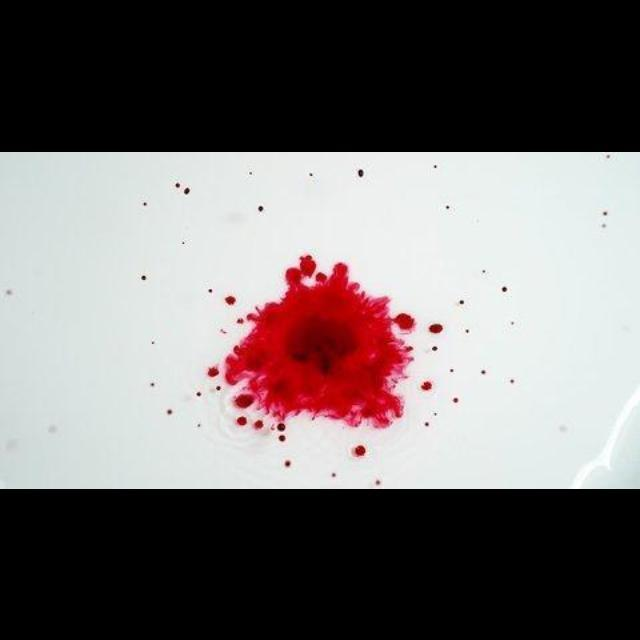blood: (225, 254, 416, 430), (171, 180, 191, 200), (352, 444, 364, 458), (136, 195, 148, 208), (429, 323, 442, 332), (503, 283, 512, 296), (253, 419, 264, 429), (207, 367, 219, 376), (421, 380, 431, 390), (191, 387, 202, 396), (428, 344, 440, 352), (236, 416, 245, 426), (225, 295, 235, 304), (139, 271, 148, 280), (359, 167, 365, 176), (284, 459, 289, 468), (279, 434, 285, 441), (259, 204, 265, 210), (167, 408, 172, 414), (453, 398, 460, 402), (426, 422, 431, 426)
